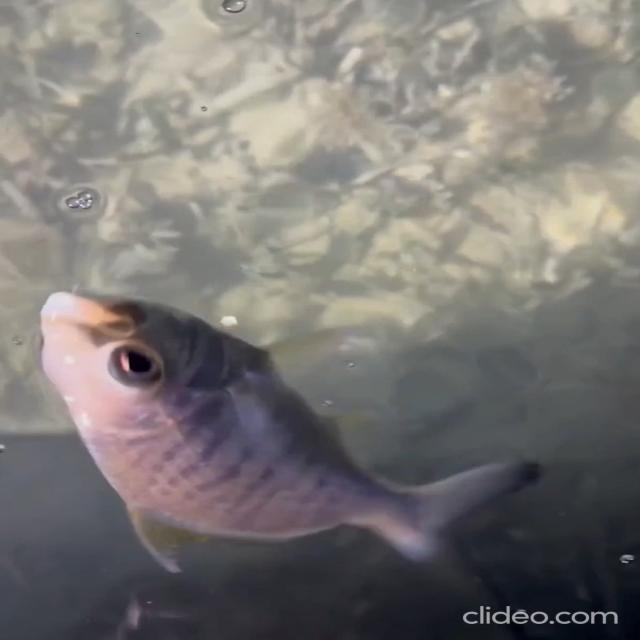fish: (34, 252, 557, 586)
